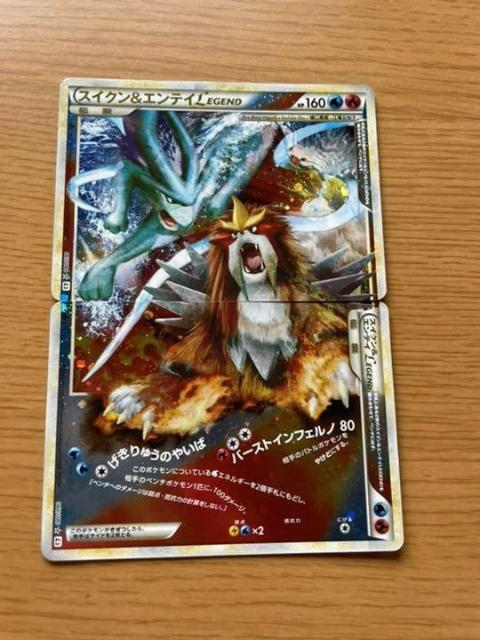Card: (38, 299, 409, 566), (49, 75, 393, 303)
Name: (76, 87, 246, 111), (361, 311, 384, 394)
